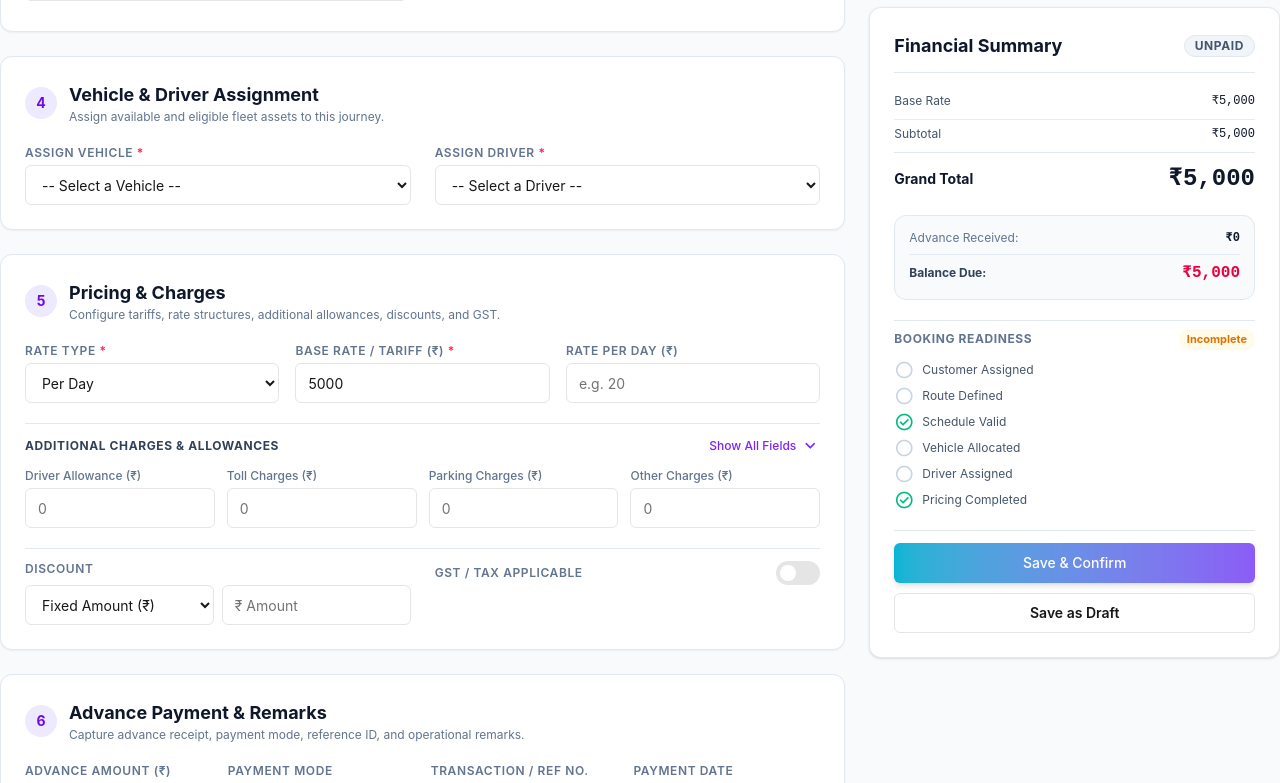
it: TripForm Component › calculates live financial totals and balance accurately
The width and height of the screenshot is (1280, 783).
(page scrolled)
Replace the text in the number field labelled "Base Rate / Tariff (₹) *" with "10000". click: (423, 383)
box: [295,363,550,403]
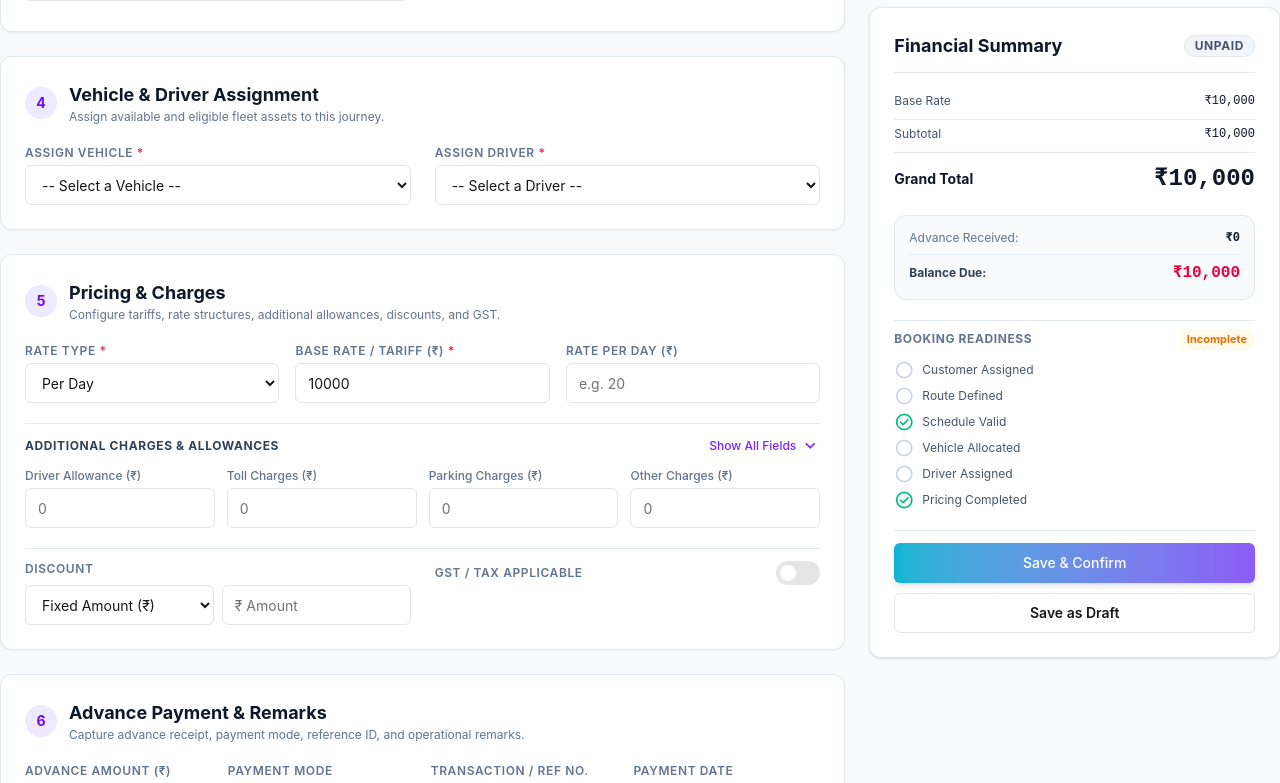
Click the button "Show All Fields". click: (765, 446)
box: [709,436,820,456]
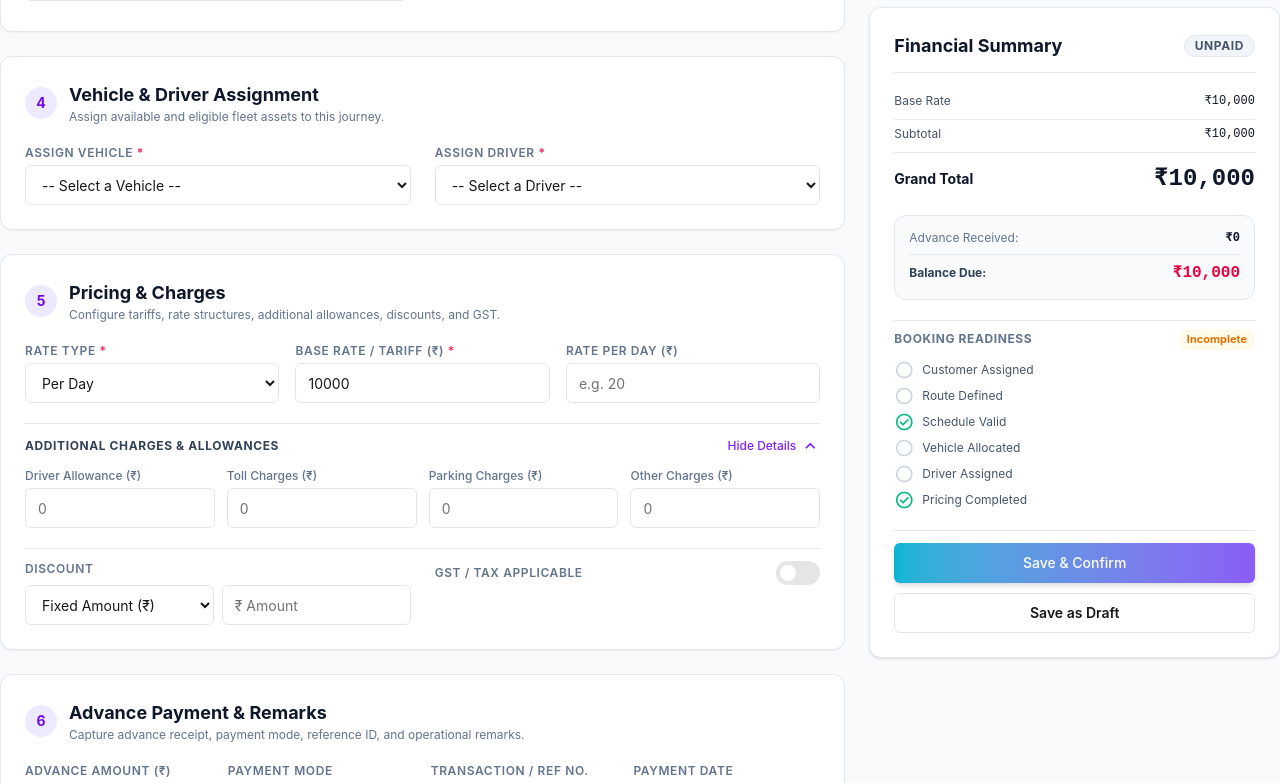
Type "1000" into the number field labelled "Driver Allowance (₹)". click: (120, 508)
box: [25,488,215,528]
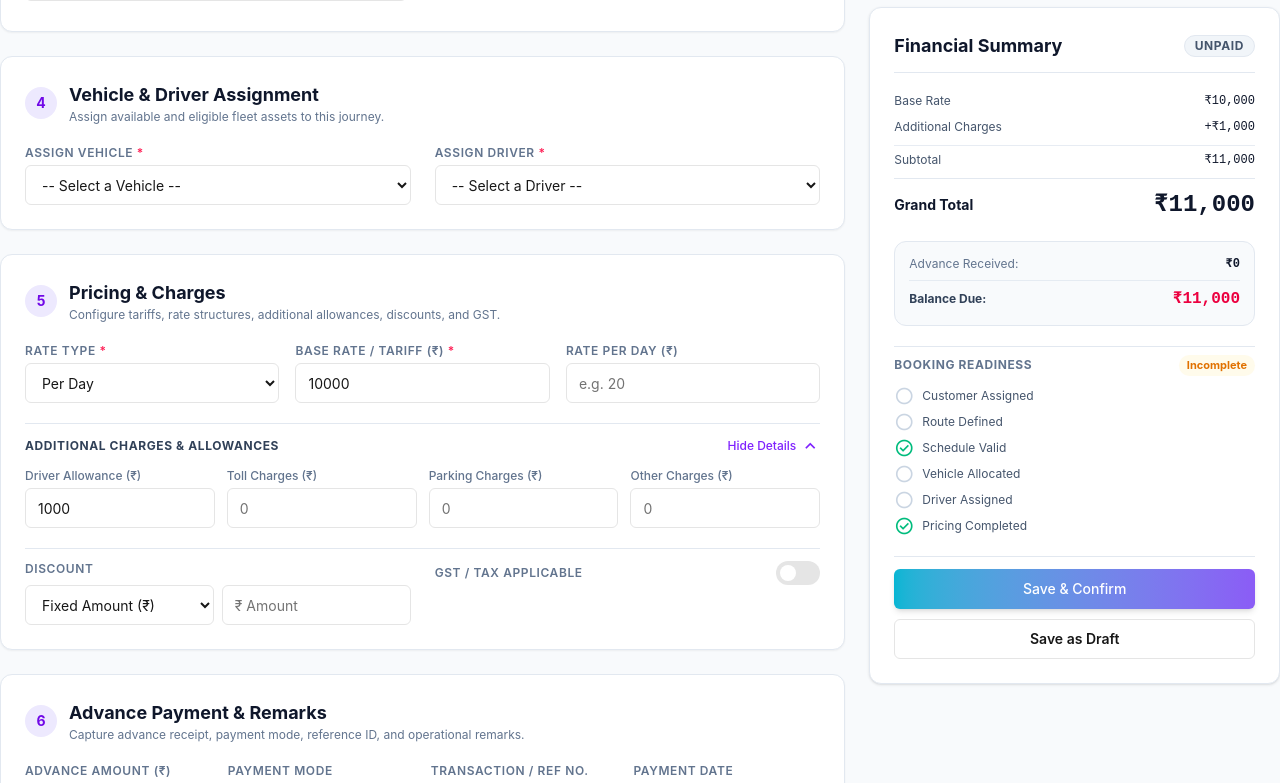
Type "500" into the number field labelled "Toll Charges (₹)". click: (322, 508)
box: [227,488,417,528]
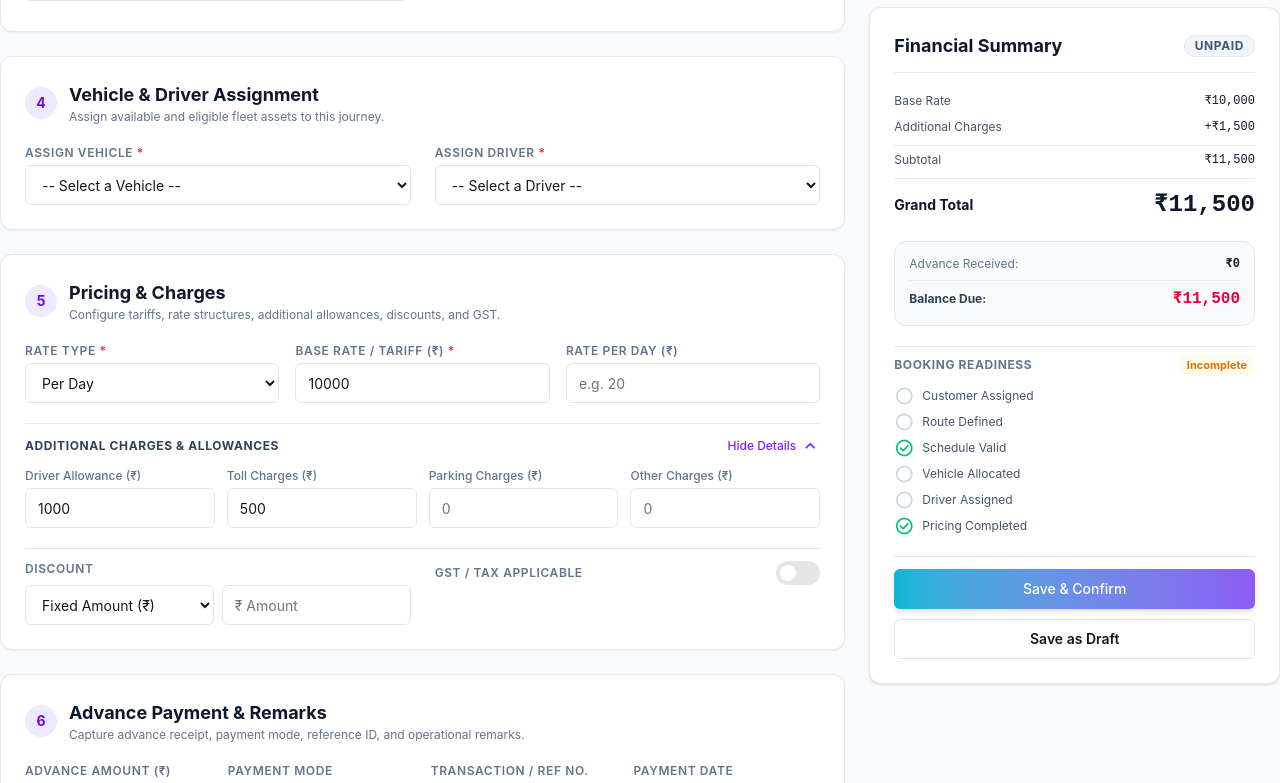
Type "500" into the number field with placeholder "₹ Amount". click: (316, 605)
box: [222,585,411,625]
(page scrolled)
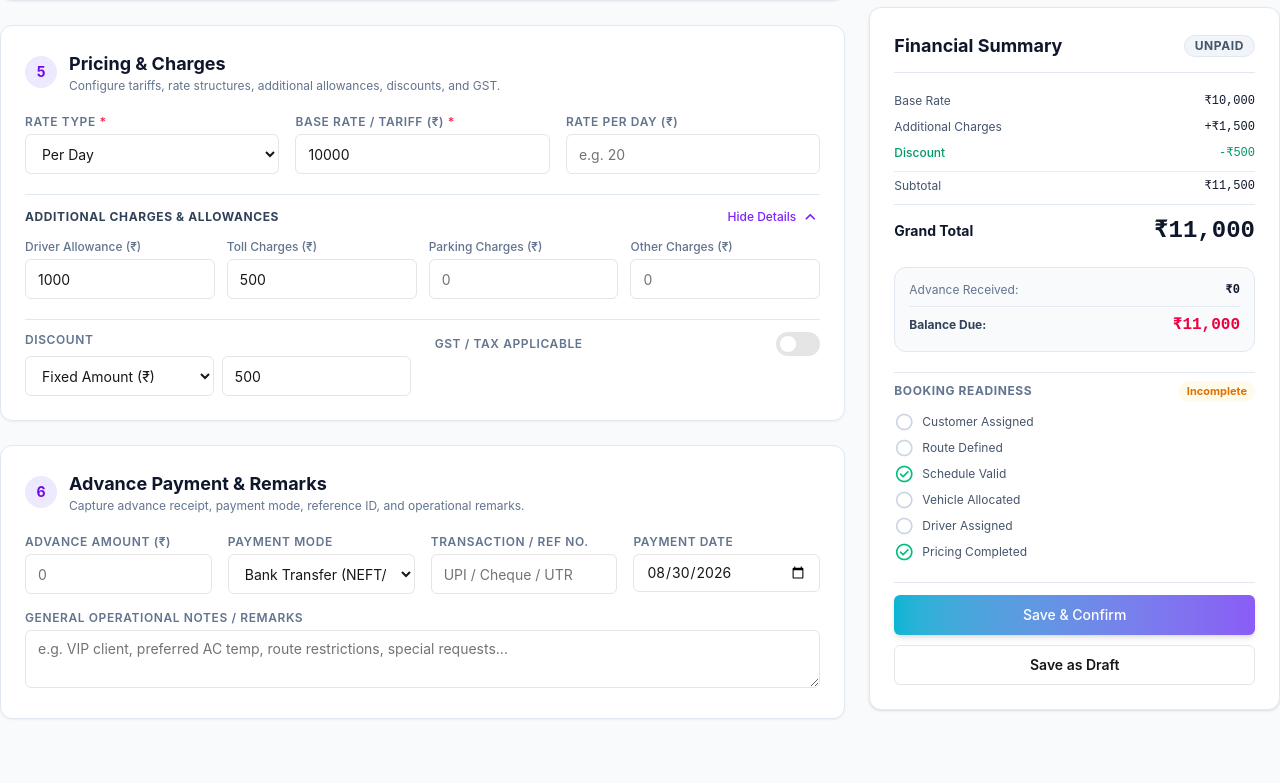
Type "4000" into the number field labelled "Advance Amount (₹)". click: (118, 574)
box: [25,554,212,594]
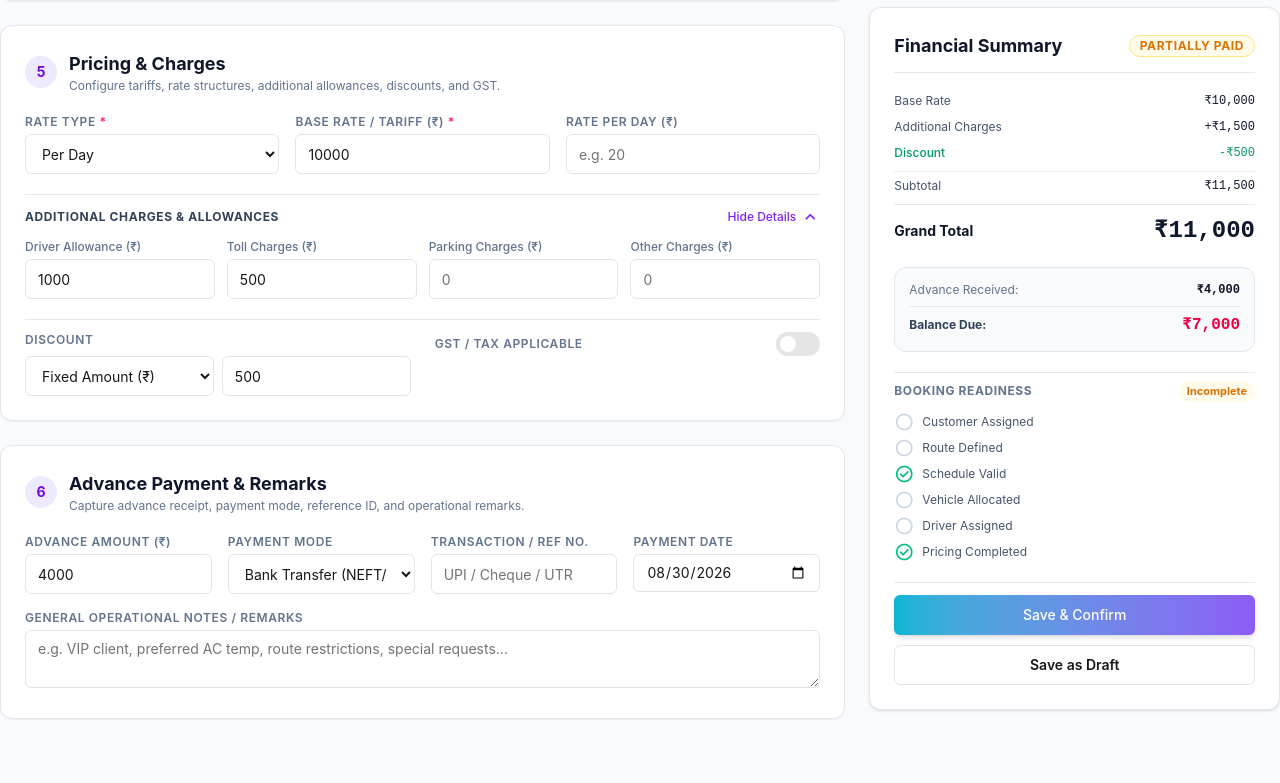
Result: the text "₹11,000" is shown at [1154,215,1255,247]
Result: the text "₹7,000" is shown at [1182,313,1240,337]
Result: the text "Partially Paid" is shown at [1129,35,1255,57]
